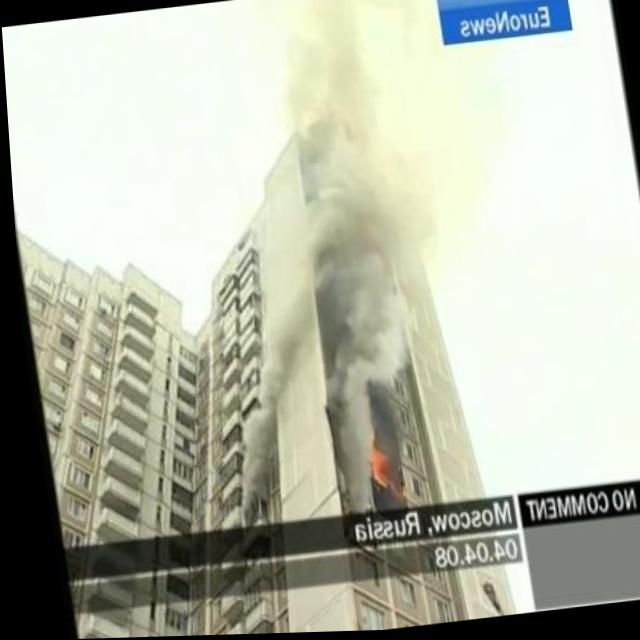fire: (360, 448, 384, 488)
